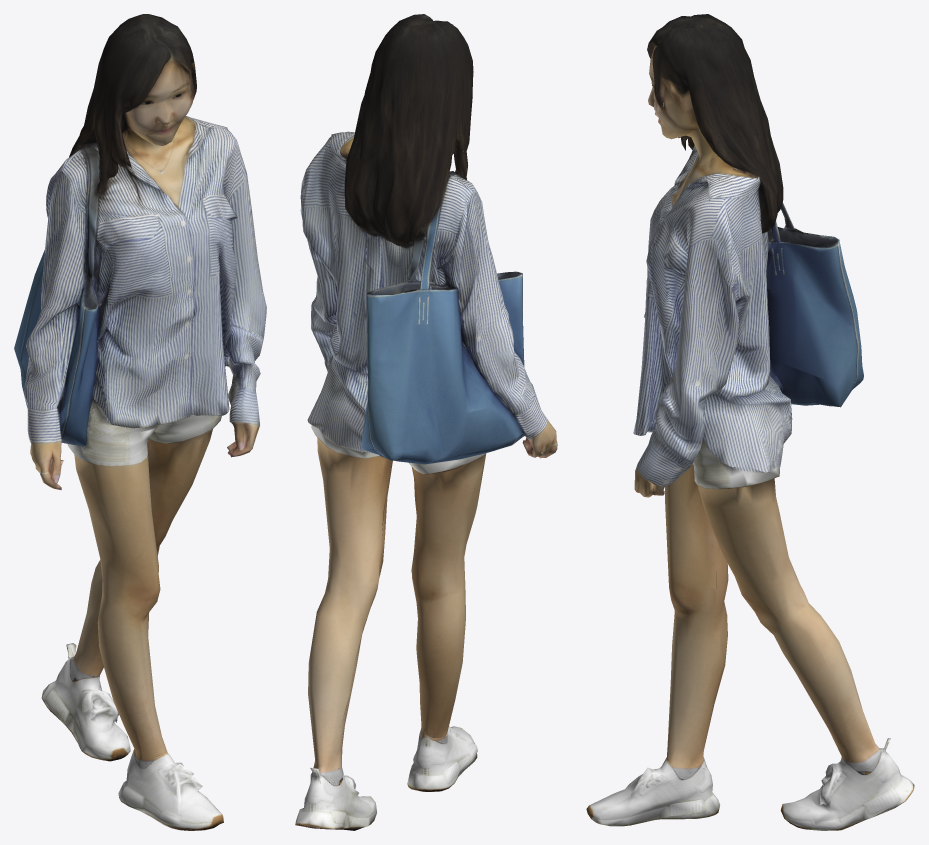
3 views of the same model, side by side, from view 1: azimuth 30°, elevation 25°; view 2: azimuth 150°, elevation 25°; view 3: azimuth 270°, elevation 25° (orthographic). The views are drawn at different scales.
Parts seen in each view (by area): view 1: Object_2; view 2: Object_2; view 3: Object_2.
Boxes of the visible parts, bbox=[...] form: Object_2: bbox=[14, 14, 266, 830]; Object_2: bbox=[295, 14, 557, 830]; Object_2: bbox=[586, 14, 914, 830].
Size of the model in its own units: 0.5477 by 1.7 by 0.6379.
1 material, 1 textured.
